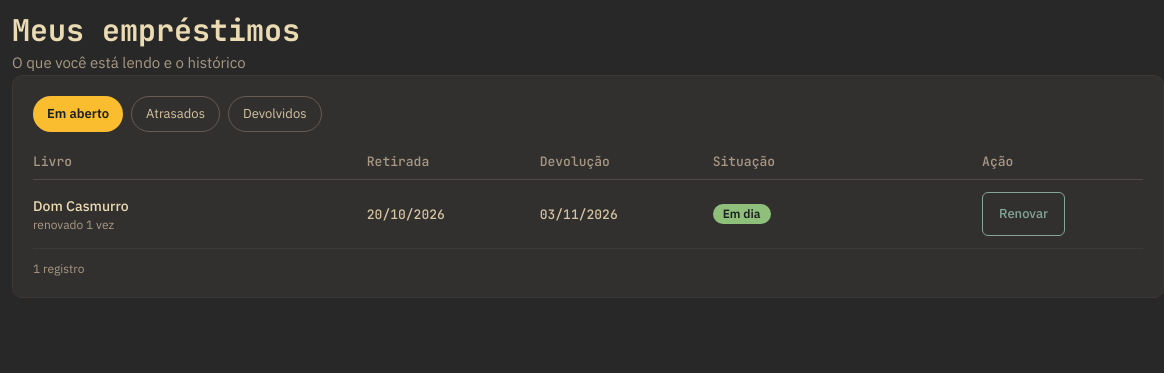
it: meus empréstimos › lista os em aberto e renova
Expected: the text "Dom Casmurro" is shown, [33,196,128,214]
Expected: the text "renovado 1 vez" is shown, [33,216,114,232]
Click the button with aria-label "Renovar Dom Casmurro": (1024, 214) [982,192,1065,236]
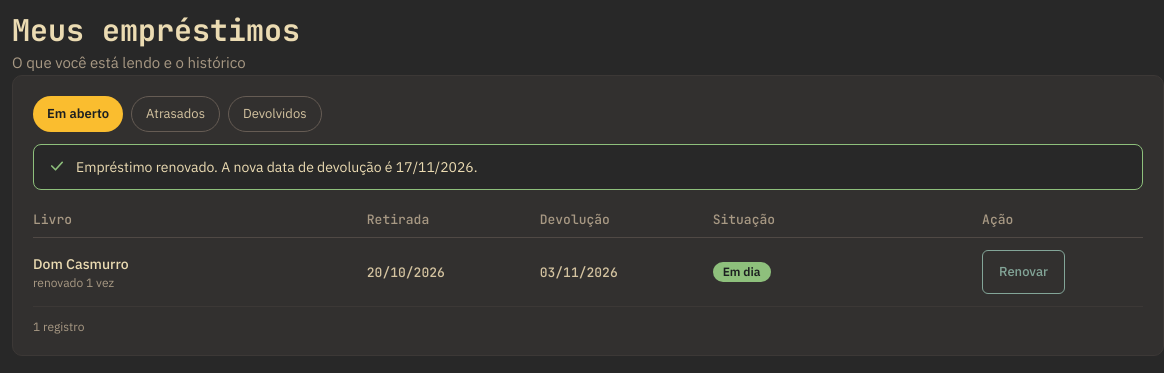
Expected: the text "Empréstimo renovado. A nova data de devolução é 17/11/2026." is shown, [76,156,478,176]
